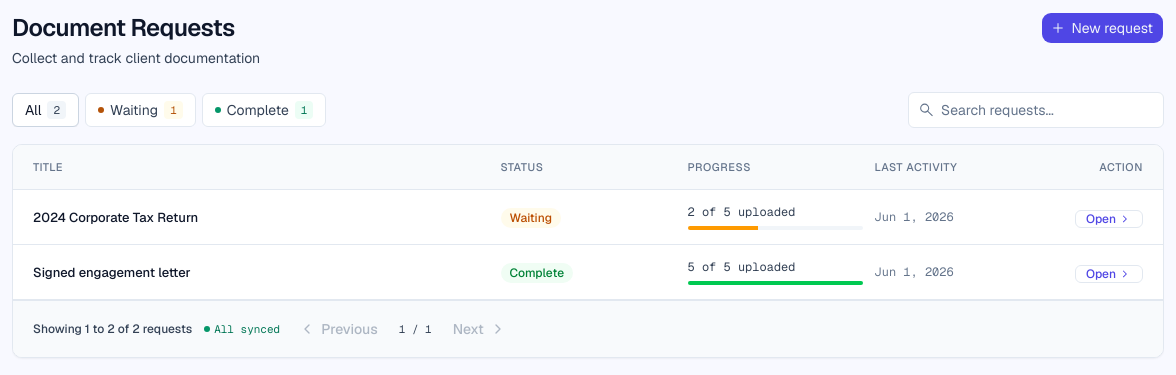
Test: RequestsPage › filters by status and search query
This screenshot has width=1176, height=375.
Expected: the link "2024 Corporate Tax Return" is shown, [33,209,198,226]
Expected: the link "Signed engagement letter" is shown, [33,264,191,281]
Click the button "Complete 1" at (264, 110), box [202,93,326,127]
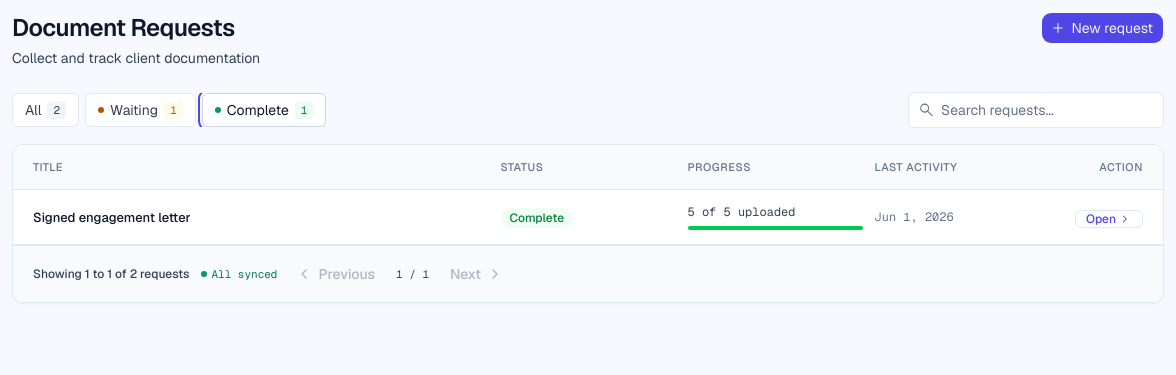
Expected: the link "Signed engagement letter" is shown, [33,209,191,226]
Now the link "2024 Corporate Tax Return" is gone
Click the button "All 2" at (46, 110), box [12,93,79,127]
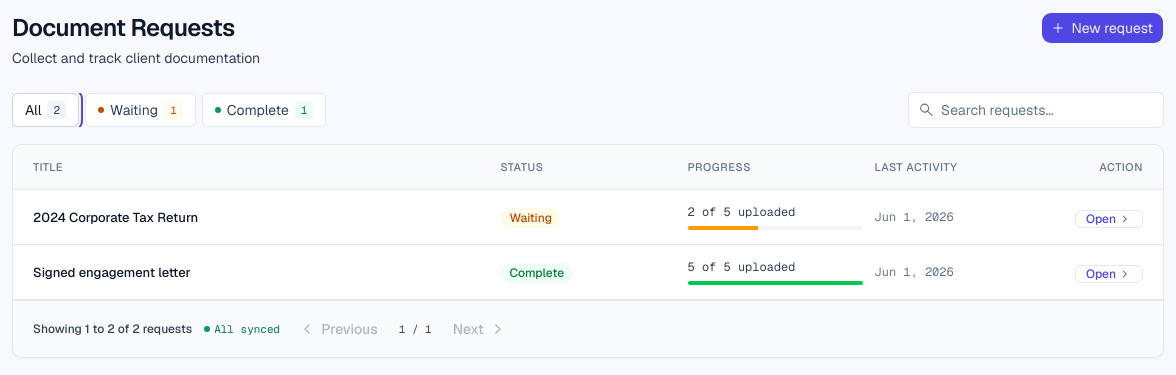
Type "tax" into the search field with placeholder "Search requests..." at (1036, 110), box [908,92,1164,128]
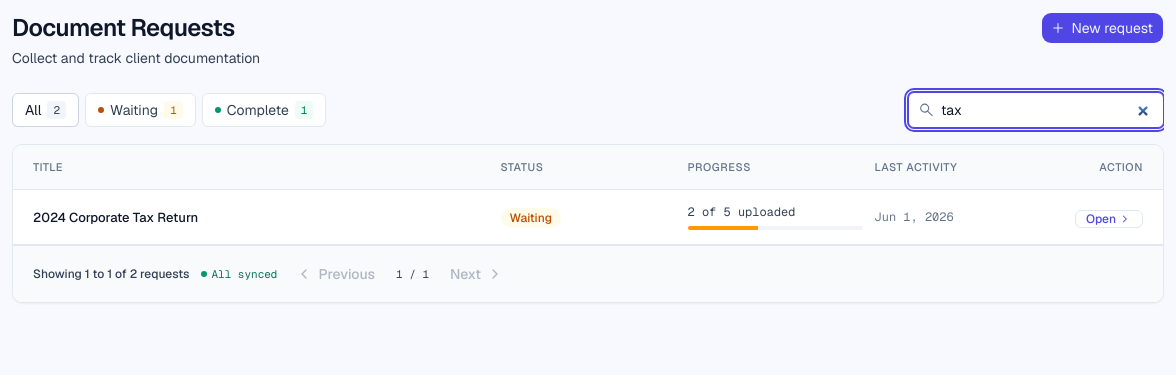
Now the link "2024 Corporate Tax Return" is shown, box [33,209,198,226]
Now the link "Signed engagement letter" is gone
